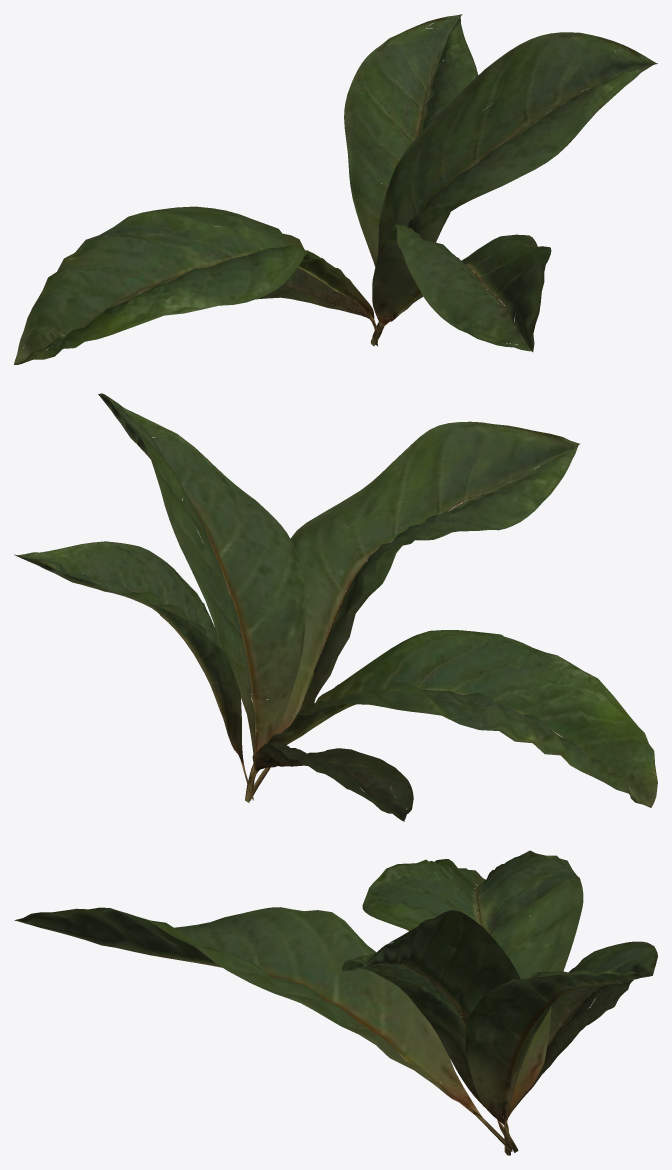
Rendered from anthurium_botany_01_c.gltf.lod.glb.
3 views of the same model, one above another, from view 1: azimuth 30°, elevation 25°; view 2: azimuth 150°, elevation 25°; view 3: azimuth 270°, elevation 25° (orthographic). The views are drawn at different scales.
Visible parts, largest first — view 1: anthurium_botany_05_e; view 2: anthurium_botany_05_e; view 3: anthurium_botany_05_e.
Boxes of the visible parts, x1,y1,x2,y2 form: anthurium_botany_05_e: [14, 14, 657, 364]; anthurium_botany_05_e: [14, 393, 657, 821]; anthurium_botany_05_e: [14, 850, 657, 1155].
Size of the model in its own units: 0.3199 by 0.1587 by 0.29.
Materials: 1 (1 with a texture image).
